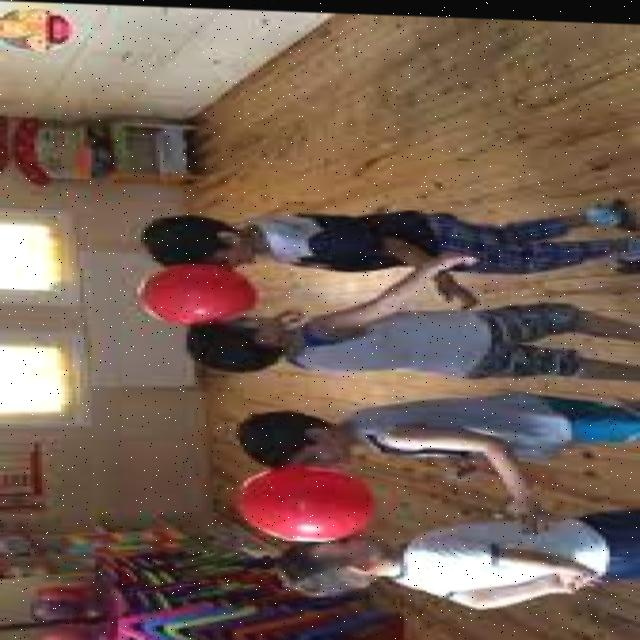balloon: (229, 457, 385, 541), (139, 257, 263, 326)
